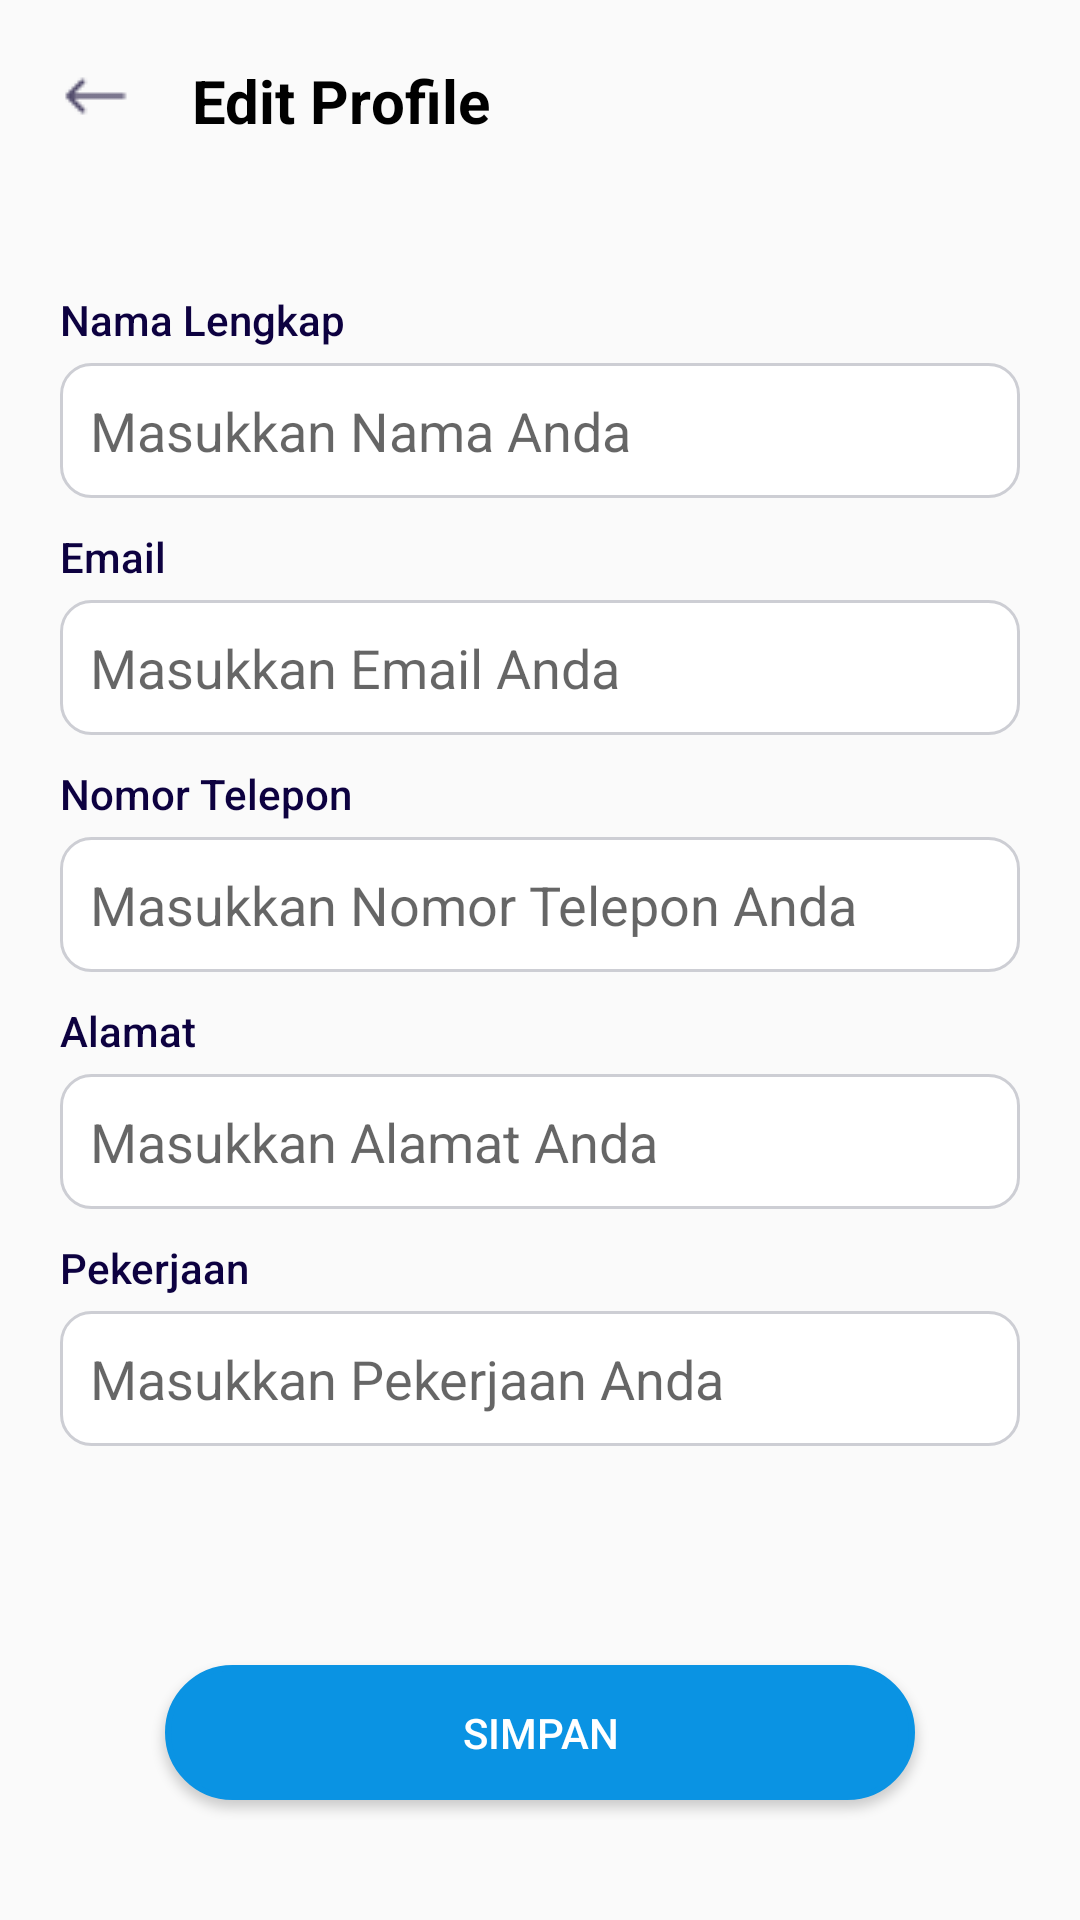

Where icons sit on this 1080px×1920px app screen, as (x1, y1, x2, y2):
back: (65, 77, 127, 115)
